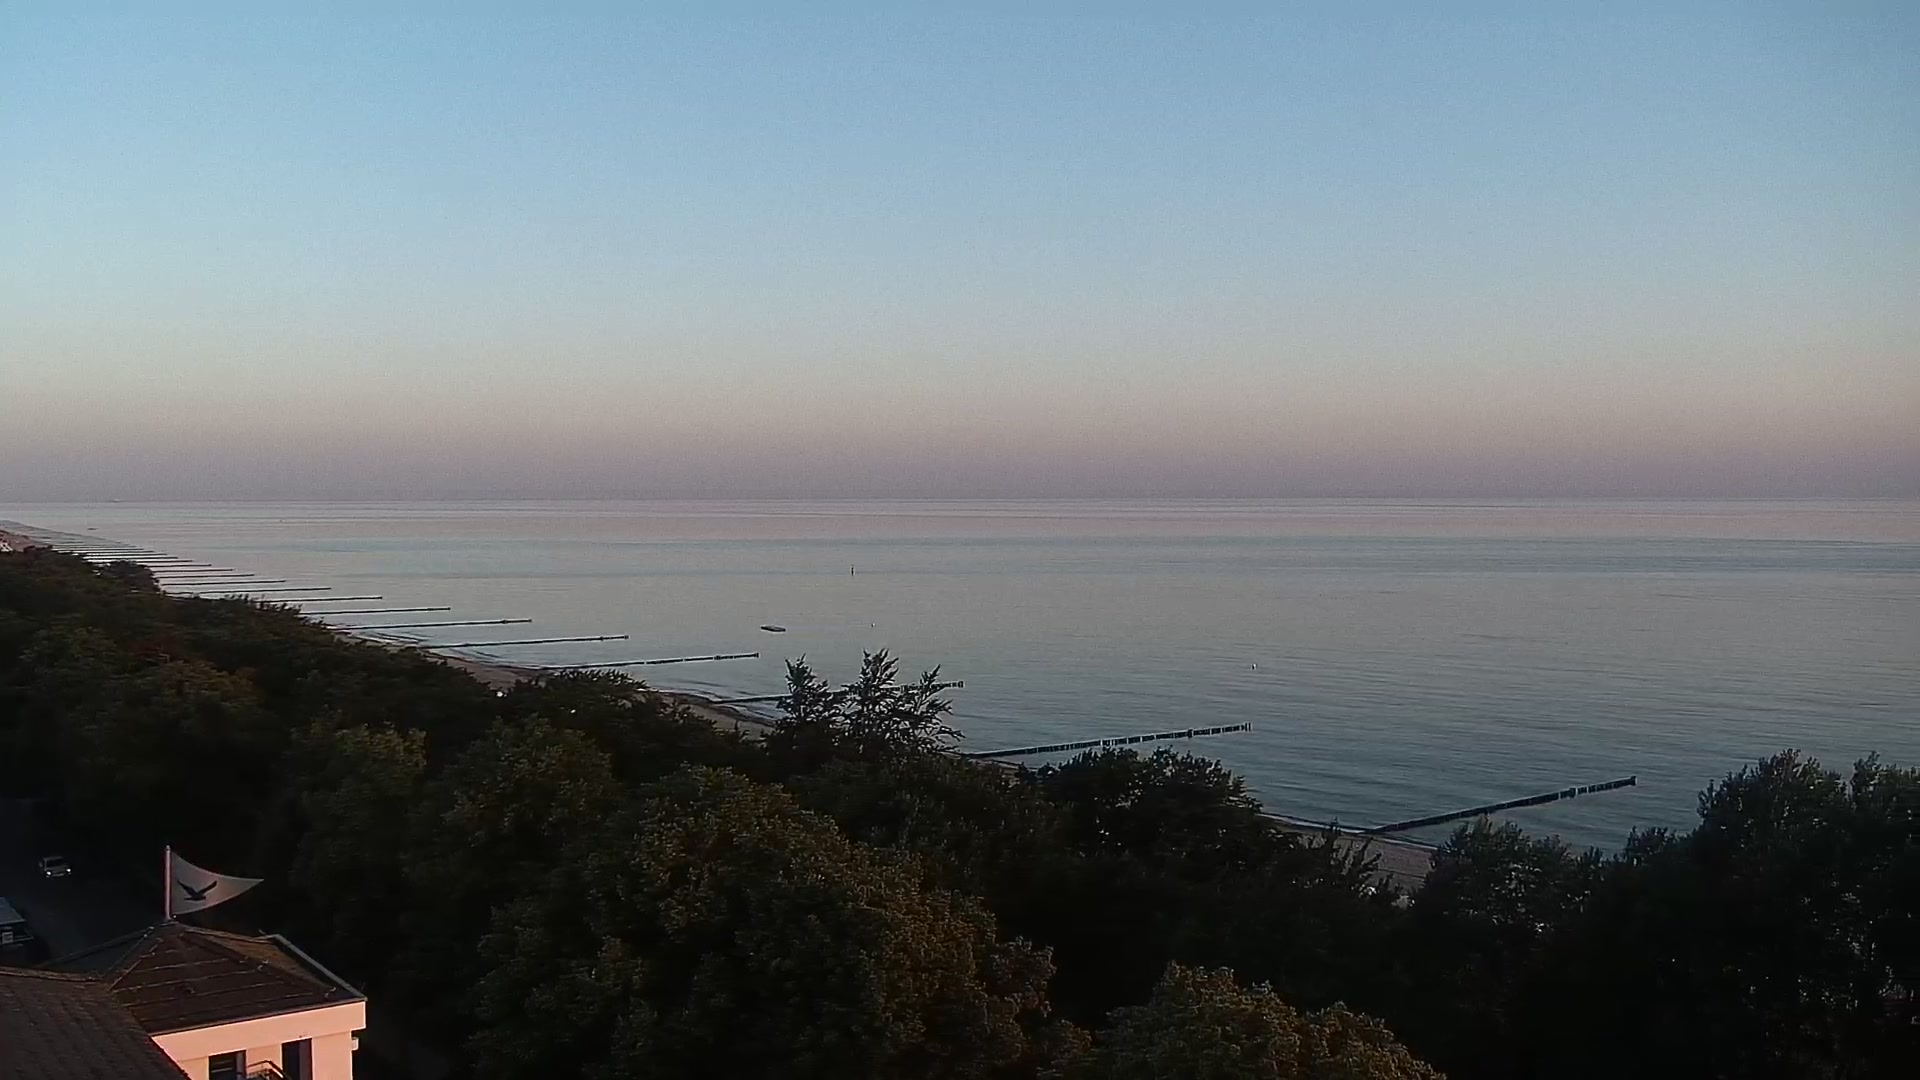land: (32, 853, 75, 882)
